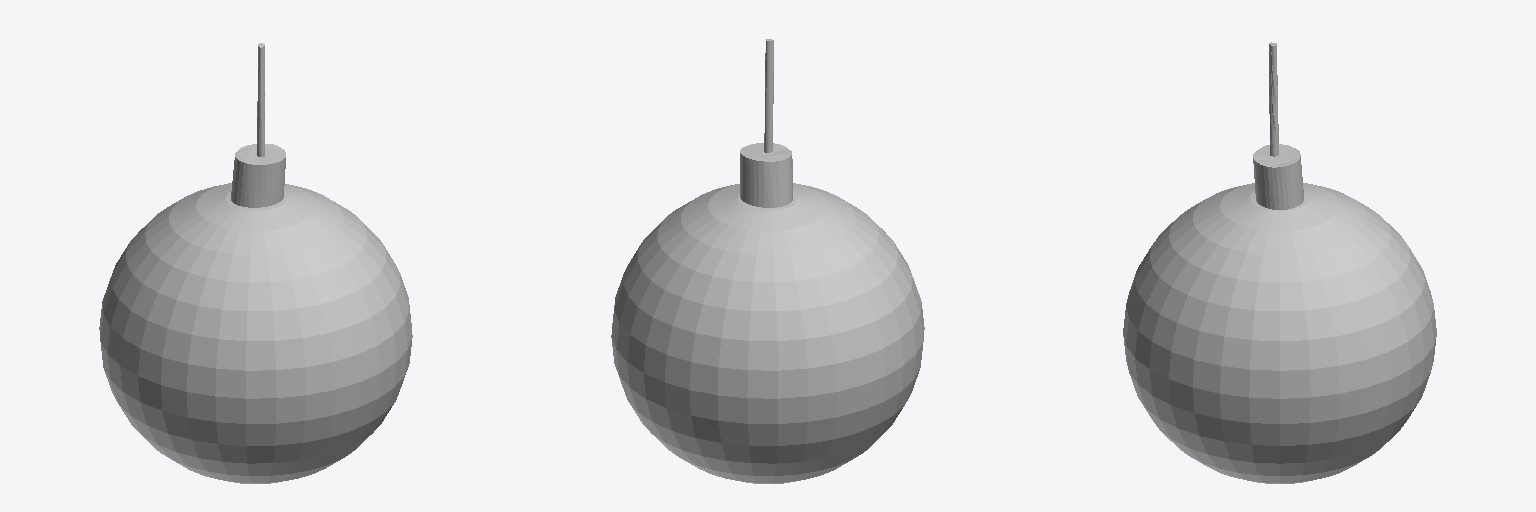
File: bomb.obj
The picture shows the model from 3 angles: view 1: azimuth 30°, elevation 25°; view 2: azimuth 150°, elevation 25°; view 3: azimuth 270°, elevation 25°; orthographic projection.
Visible parts, largest first — view 1: Sphere; view 2: Sphere; view 3: Sphere.
Part boxes in pixels (x1,y1,x2,y2): Sphere: (99,43,412,483); Sphere: (611,39,924,483); Sphere: (1123,42,1436,483).
Bounding box in the file's own units: 1.95 × 2.92 × 1.95.